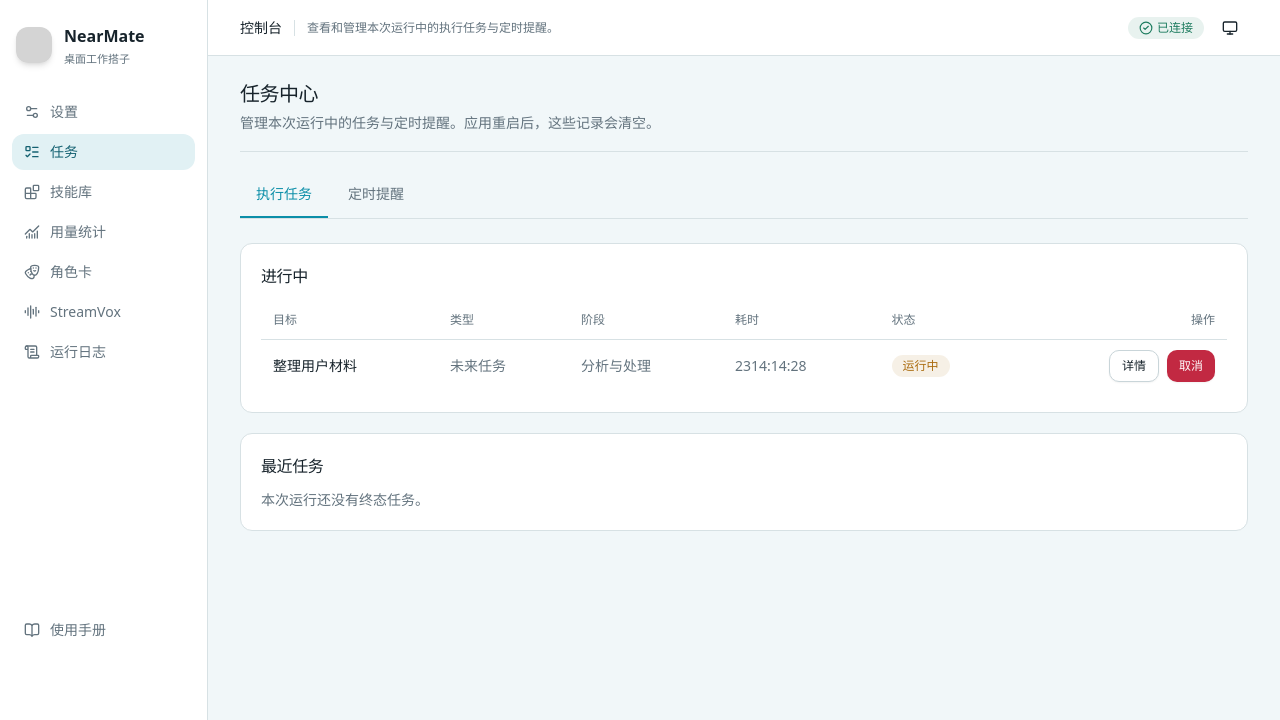
Test case: console activity center › 取消请求中禁用重复操作，不乐观显示已取消
The width and height of the screenshot is (1280, 720).
Click the button "取消".
click(1191, 366)  # box [1167,350,1215,382]
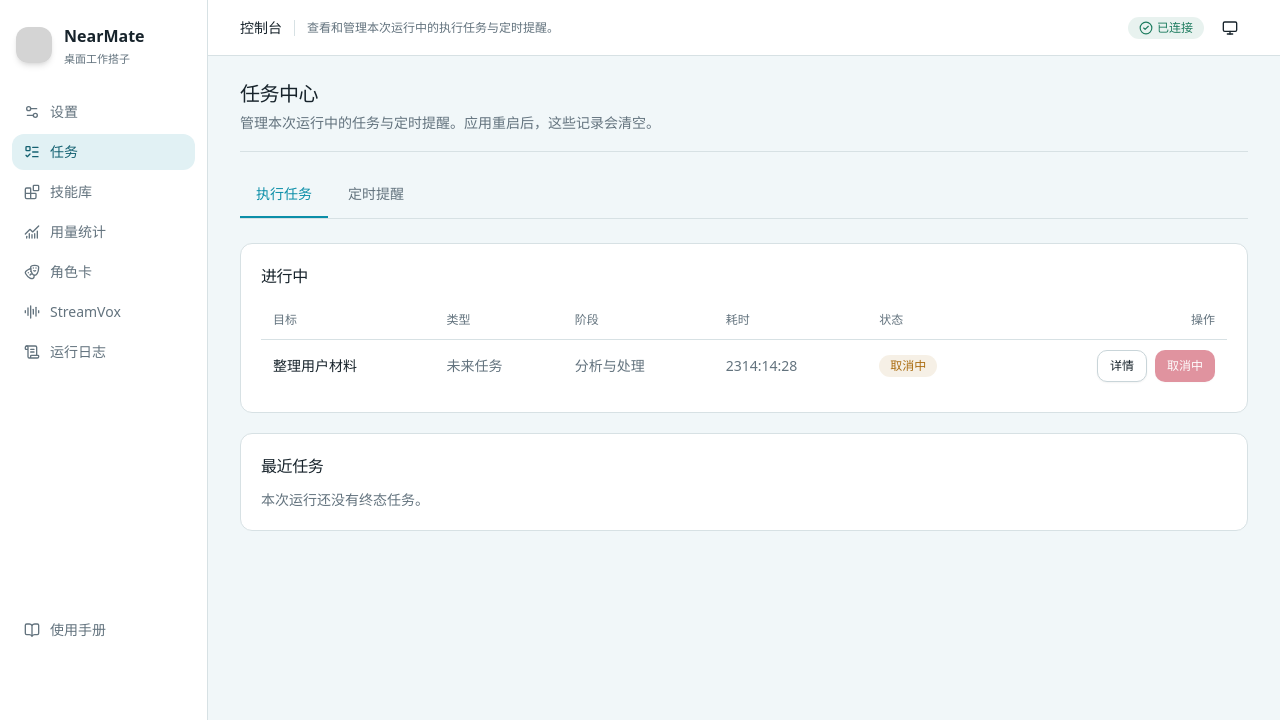
Expected: the button "取消中" is disabled, [1155,350,1215,382]
Expected: the text "取消中" is shown, [879,355,937,377]
